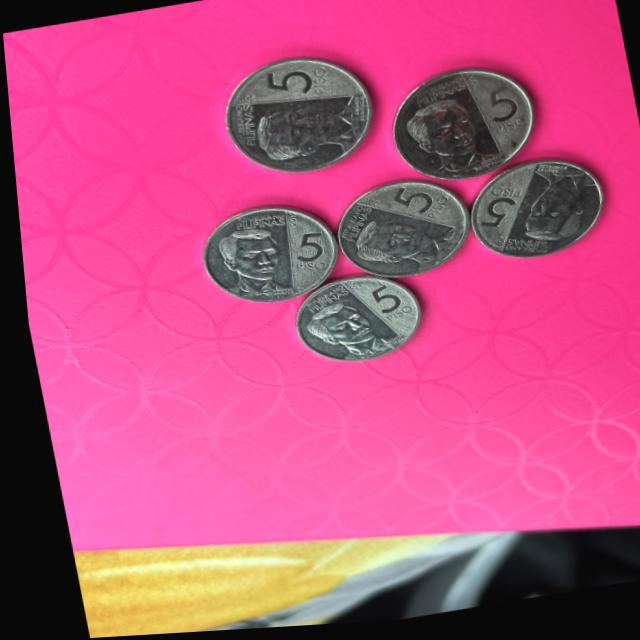5_New_Front: (251, 58, 334, 112), (383, 175, 449, 228), (471, 86, 528, 142), (356, 279, 411, 330), (465, 188, 520, 238), (281, 226, 329, 280)
